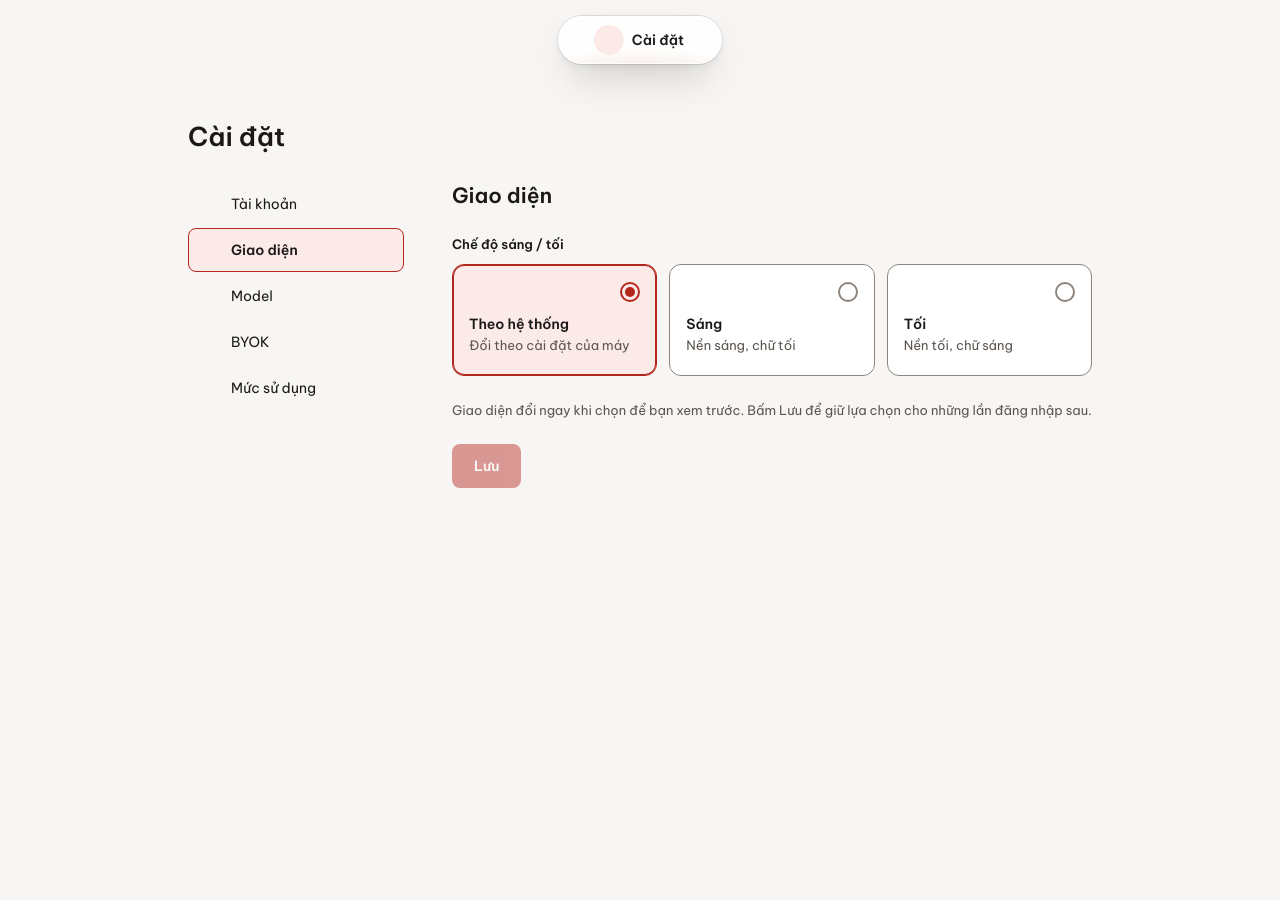
Test case: giao dien › 23. chon Toi = XEM TRUOC (chua ghi); Luu ⇒ ghi; nut header noi dung
Click the radio button labelled "Tối Nền tối, chữ sáng": [989, 320] box [887, 264, 1092, 376]
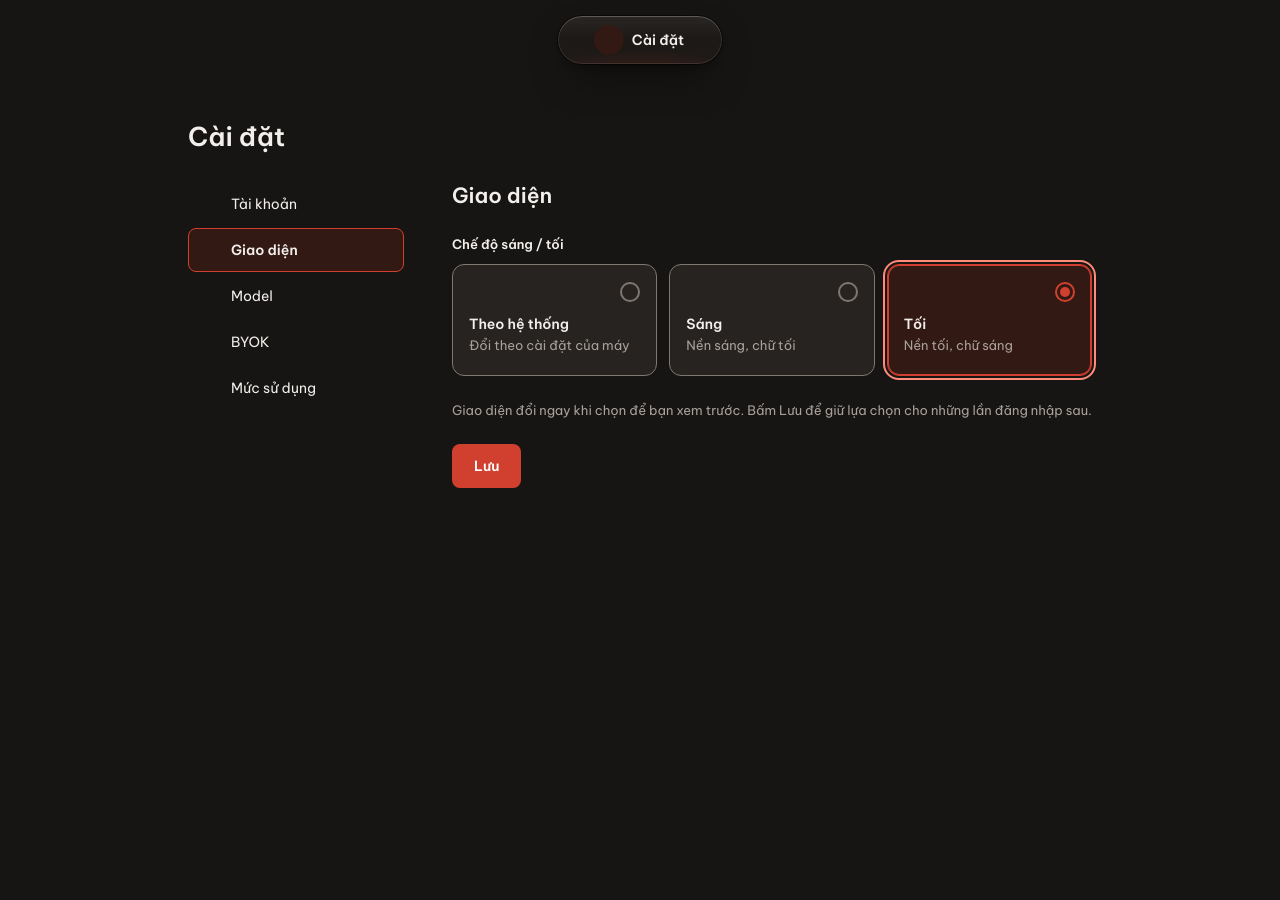
Click the button "Lưu": [487, 466] box [452, 444, 521, 488]
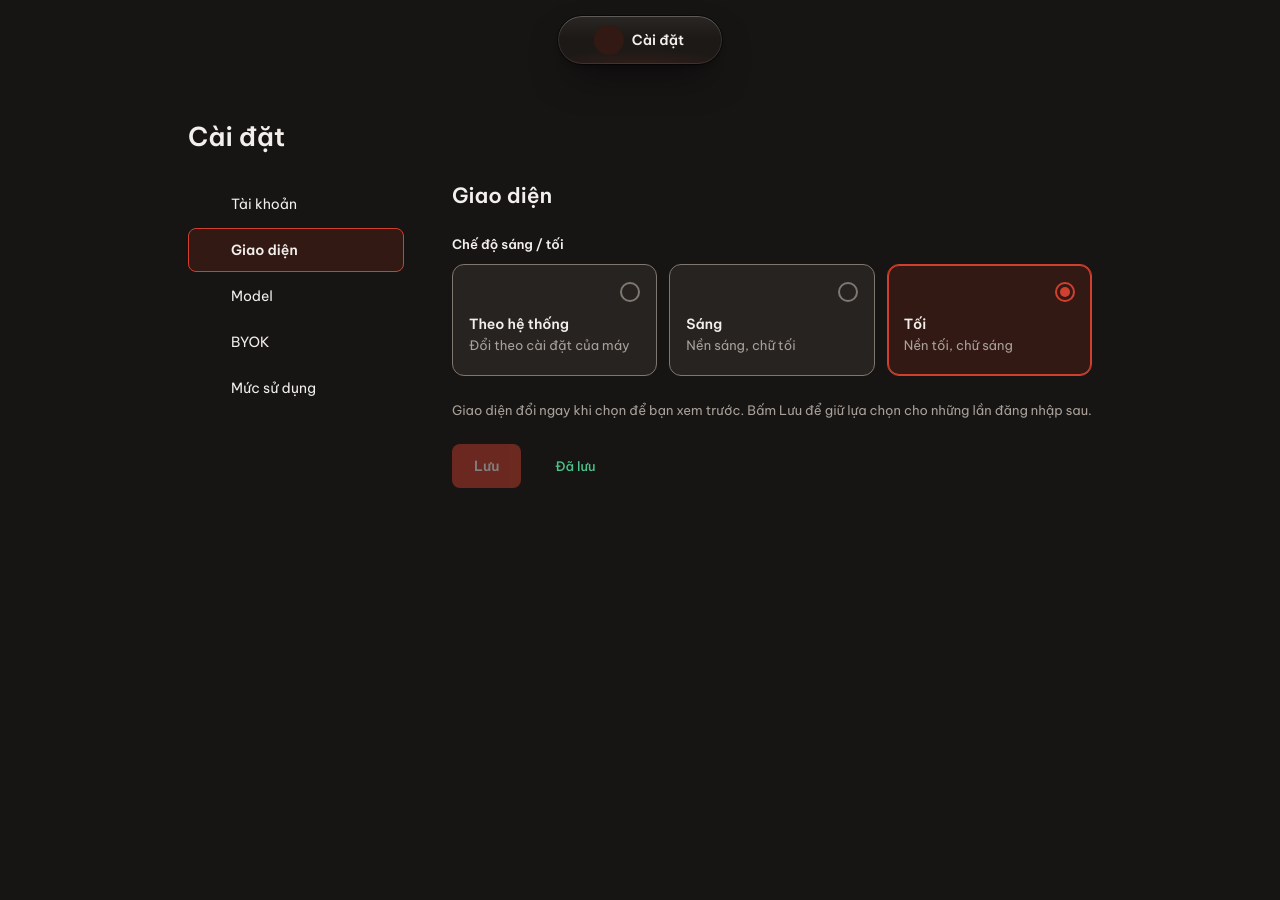
Now the text "Đã lưu" is shown, box [555, 458, 596, 474]
